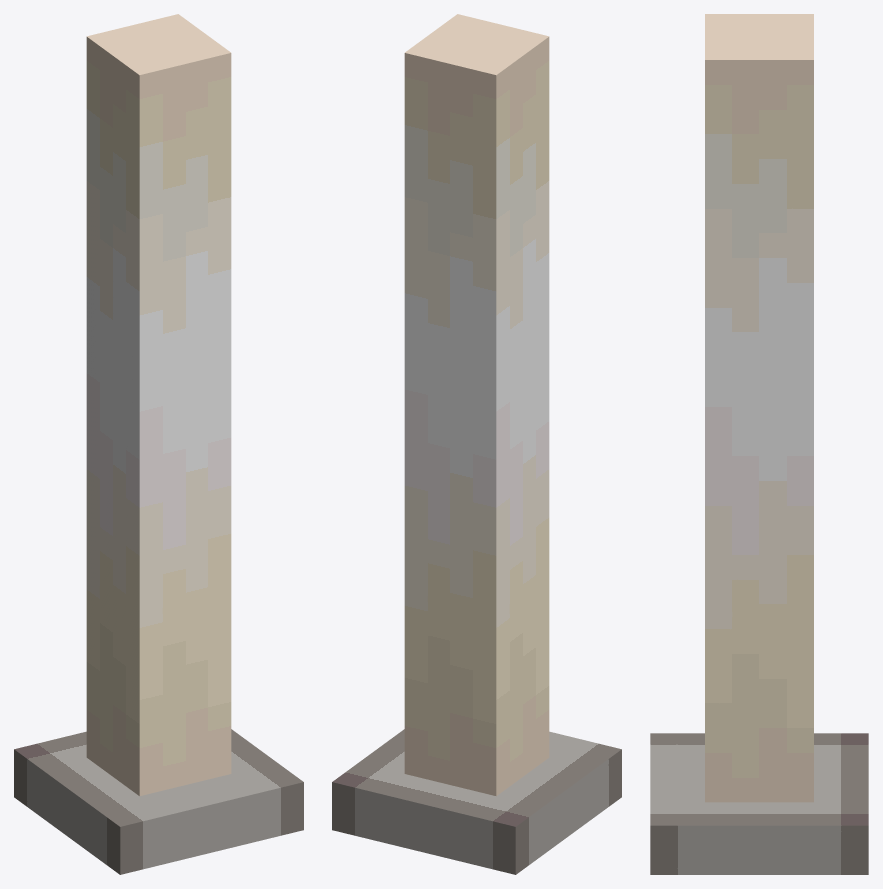
The model's file is block_end_rod.gltf.
3 renders of one model, left to right at view 1: azimuth 30°, elevation 25°; view 2: azimuth 150°, elevation 25°; view 3: azimuth 270°, elevation 25°, orthographic. The views are drawn at different scales.
Parts seen in each view (by area): view 1: cube (×2); view 2: cube (×2); view 3: cube (×2).
Part boxes in pixels (left/top/right/bottom): cube (×2): left=14, top=14, right=303, bottom=874; cube (×2): left=332, top=14, right=621, bottom=874; cube (×2): left=650, top=14, right=868, bottom=874.
Bounding box in the file's own units: 0.25 × 1 × 0.25.
Materials: 1 (1 with a texture image).
